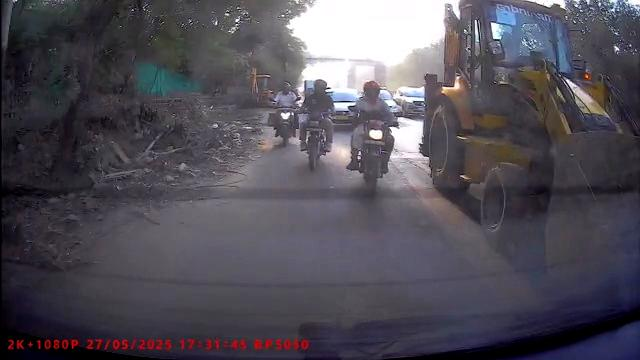motorcycle_with_helmet: (345, 79, 399, 193), (299, 78, 335, 172), (269, 80, 299, 147)
